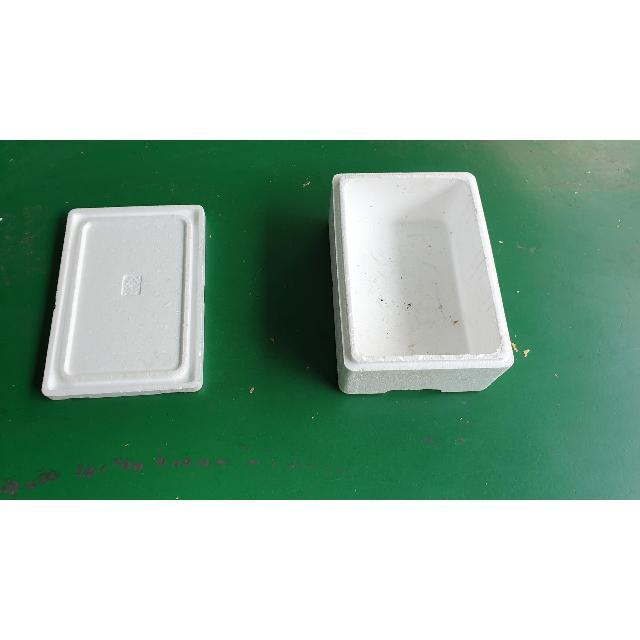Recipiente plastico: (330, 172, 514, 394), (41, 206, 205, 399)
